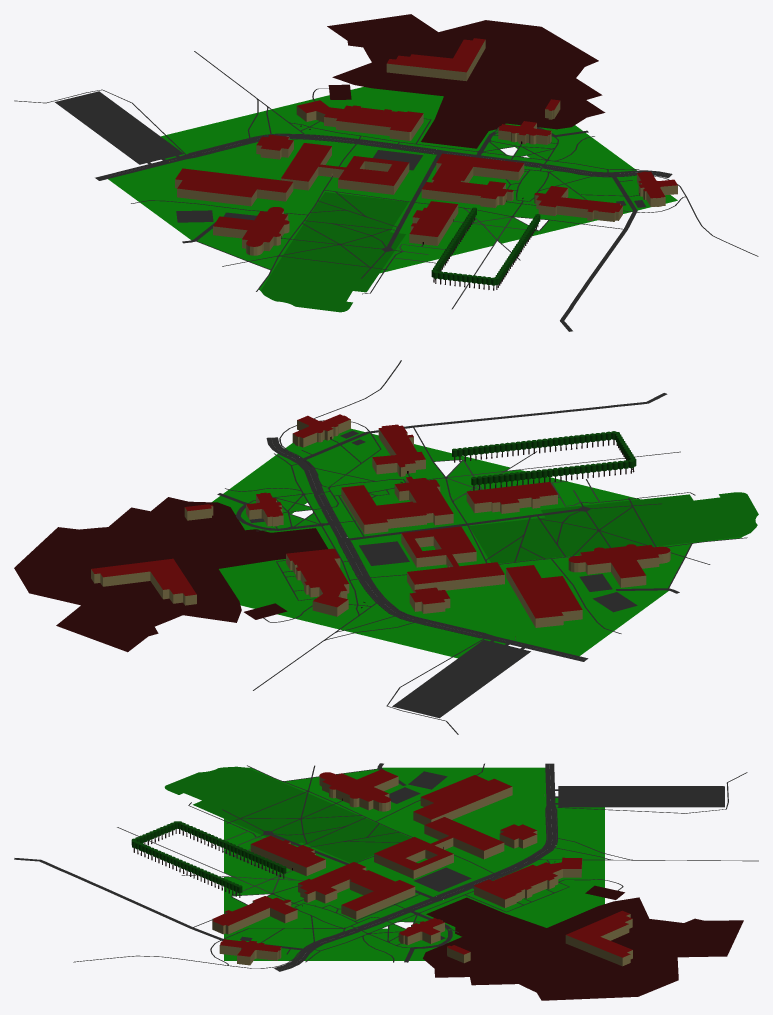
Rendered from map_test.obj.
3 views of the same model, one above another, from view 1: azimuth 30°, elevation 25°; view 2: azimuth 150°, elevation 25°; view 3: azimuth 270°, elevation 25° (orthographic). The views are drawn at different scales.
Parts seen in each view (by area): view 1: SurfaceArea380, SurfaceArea North Campus Housing, SurfaceArea Denny Yard, SurfaceArea381, Building Art Building, SurfaceParking N5, Building Paccar Hall, Building Hutchinson Hall, Building Madrona Hall, Road East Stevens Way Northeast, Building Denny Hall, Building Mackenzie Hall (+8 smaller); view 2: SurfaceArea380, SurfaceArea North Campus Housing, SurfaceArea Denny Yard, SurfaceArea381, SurfaceParking N5, Building Art Building, TreeRow Quad Cherry Trees, Building Paccar Hall, Building Hutchinson Hall, Building Denny Hall, Road East Stevens Way Northeast, Building Madrona Hall (+10 smaller); view 3: SurfaceArea380, SurfaceArea North Campus Housing, SurfaceArea Denny Yard, SurfaceArea381, Building Art Building, SurfaceParking N5, TreeRow Quad Cherry Trees, Building Paccar Hall, Building Hutchinson Hall, Road East Stevens Way Northeast, Building Denny Hall, Building Madrona Hall (+10 smaller).
Boxes of the visible parts, <box> form: SurfaceArea380: <box>108,87,597,290</box>; SurfaceArea North Campus Housing: <box>327,14,605,148</box>; SurfaceArea Denny Yard: <box>261,192,408,312</box>; SurfaceArea381: <box>492,123,677,213</box>; Building Art Building: <box>421,153,524,207</box>; SurfaceParking N5: <box>55,91,183,164</box>; Building Paccar Hall: <box>175,168,293,206</box>; Building Hutchinson Hall: <box>296,100,423,140</box>; Building Madrona Hall: <box>386,38,485,81</box>; Road East Stevens Way Northeast: <box>95,133,672,180</box>; Building Denny Hall: <box>213,207,289,255</box>; Building Mackenzie Hall: <box>338,156,409,194</box>; SurfaceArea380: <box>219,444,742,658</box>; SurfaceArea North Campus Housing: <box>14,497,327,652</box>; SurfaceArea Denny Yard: <box>469,492,758,563</box>; SurfaceArea381: <box>212,428,384,531</box>; SurfaceParking N5: <box>392,640,530,718</box>; Building Art Building: <box>341,476,453,534</box>; TreeRow Quad Cherry Trees: <box>452,431,636,490</box>; Building Paccar Hall: <box>506,565,582,627</box>; Building Hutchinson Hall: <box>286,548,349,616</box>; Building Denny Hall: <box>568,544,670,587</box>; Road East Stevens Way Northeast: <box>266,437,588,661</box>; Building Madrona Hall: <box>91,558,196,605</box>; SurfaceArea380: <box>224,767,604,928</box>; SurfaceArea North Campus Housing: <box>423,897,743,1000</box>; SurfaceArea Denny Yard: <box>164,766,410,862</box>; SurfaceArea381: <box>224,928,461,960</box>; Building Art Building: <box>298,862,415,919</box>; SurfaceParking N5: <box>558,786,724,807</box>; TreeRow Quad Cherry Trees: <box>131,821,286,897</box>; Building Paccar Hall: <box>413,775,512,824</box>; Building Hutchinson Hall: <box>474,857,582,907</box>; Road East Stevens Way Northeast: <box>274,763,557,971</box>; Building Denny Hall: <box>319,769,398,811</box>; Building Madrona Hall: <box>565,910,632,966</box>.
Size of the model in its own units: 443 by 10 by 587.
